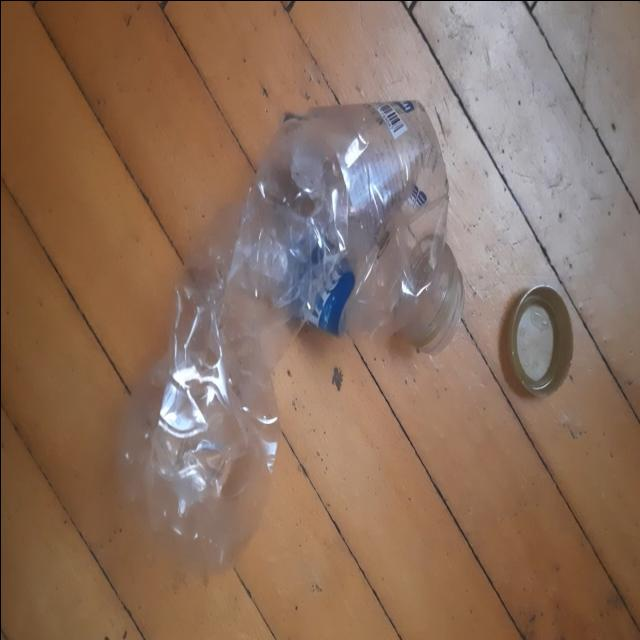Plastic: (119, 97, 456, 578)
